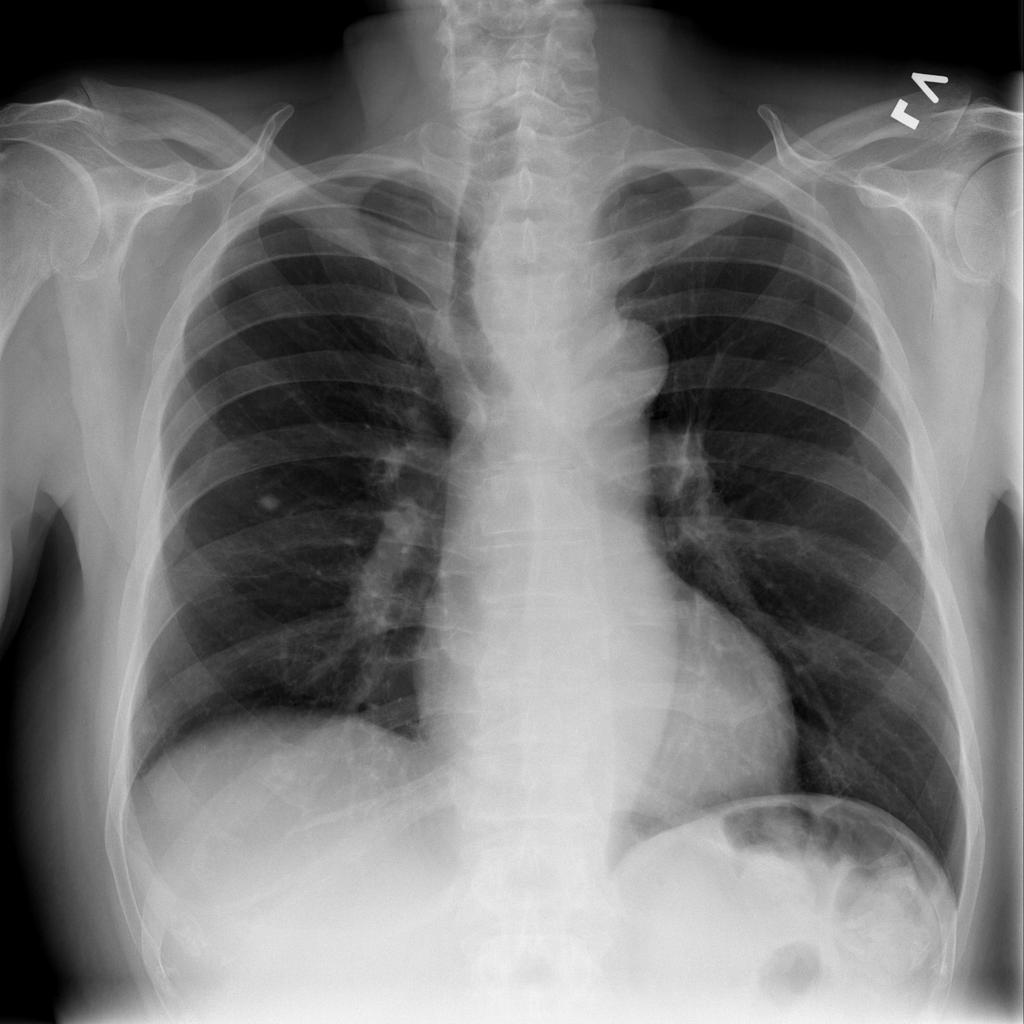nodule: (241, 479, 296, 525)
